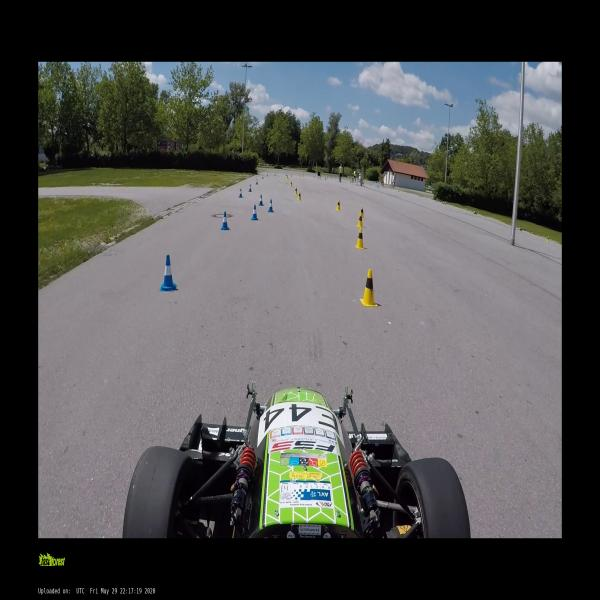blue_cone: (160, 255, 176, 291), (219, 211, 230, 231), (251, 205, 258, 220), (268, 199, 274, 213), (259, 194, 264, 207), (238, 188, 243, 198), (248, 184, 252, 192), (255, 178, 258, 186), (261, 174, 264, 179), (274, 173, 276, 176), (267, 172, 268, 177)
yellow_cone: (359, 269, 377, 309), (356, 228, 366, 249), (358, 206, 365, 222), (358, 212, 364, 229), (336, 200, 341, 212), (297, 192, 302, 201), (294, 186, 298, 194), (290, 181, 292, 187), (286, 176, 289, 180)
